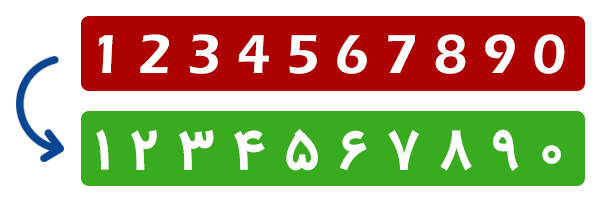character: (325, 120, 378, 183), (279, 25, 324, 87), (176, 116, 218, 182), (384, 121, 427, 183), (135, 23, 177, 86), (225, 120, 269, 180), (278, 119, 321, 180), (330, 26, 373, 83), (435, 122, 475, 182), (89, 25, 127, 88), (125, 117, 164, 178), (481, 27, 522, 85), (234, 25, 274, 84), (433, 24, 473, 83), (483, 125, 524, 182), (529, 27, 569, 83), (84, 120, 120, 182), (187, 23, 224, 83), (530, 131, 572, 183), (385, 28, 422, 84)
